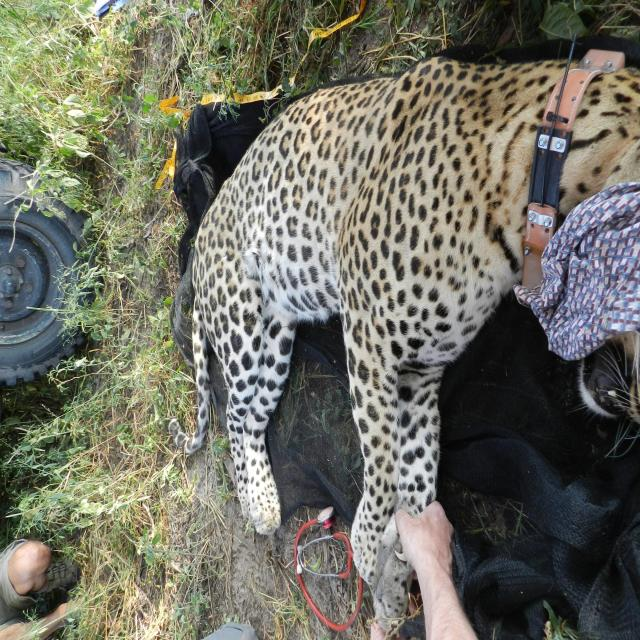Leopard: (178, 60, 627, 622)
